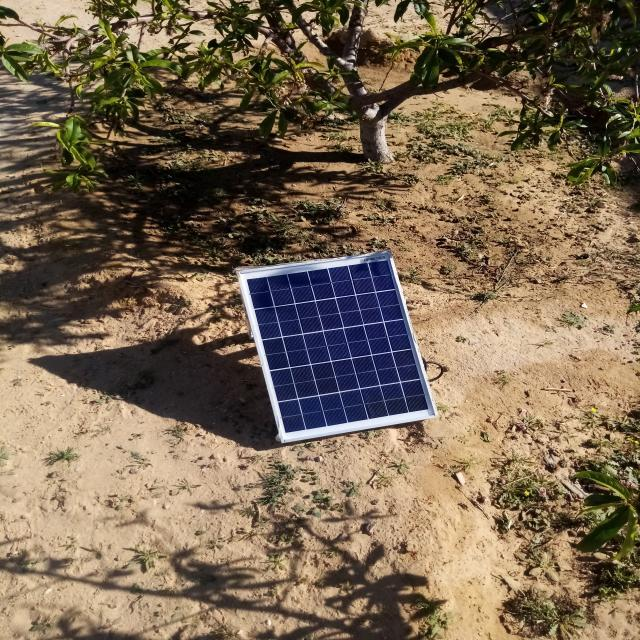no faulty: (238, 253, 440, 443)
